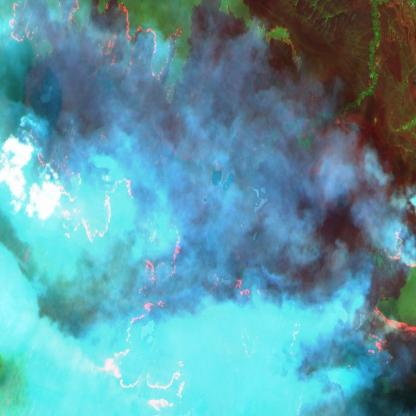fire: (6, 0, 182, 239), (102, 243, 192, 416), (363, 221, 416, 362)
